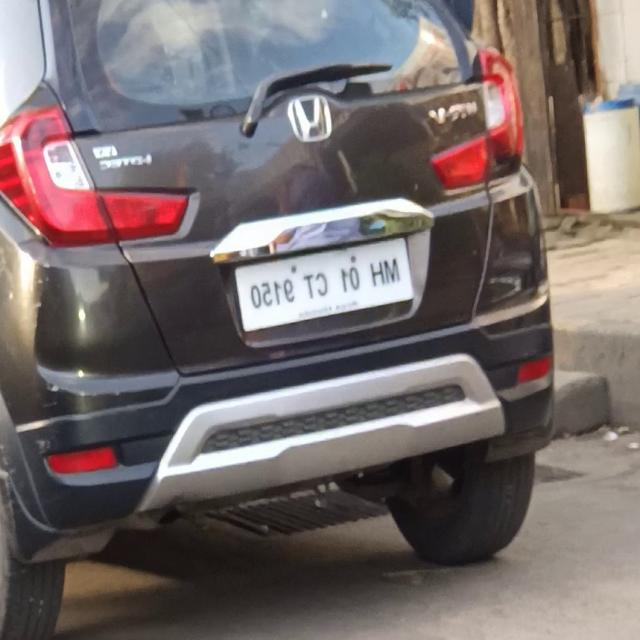license_plate: (231, 229, 414, 334)
